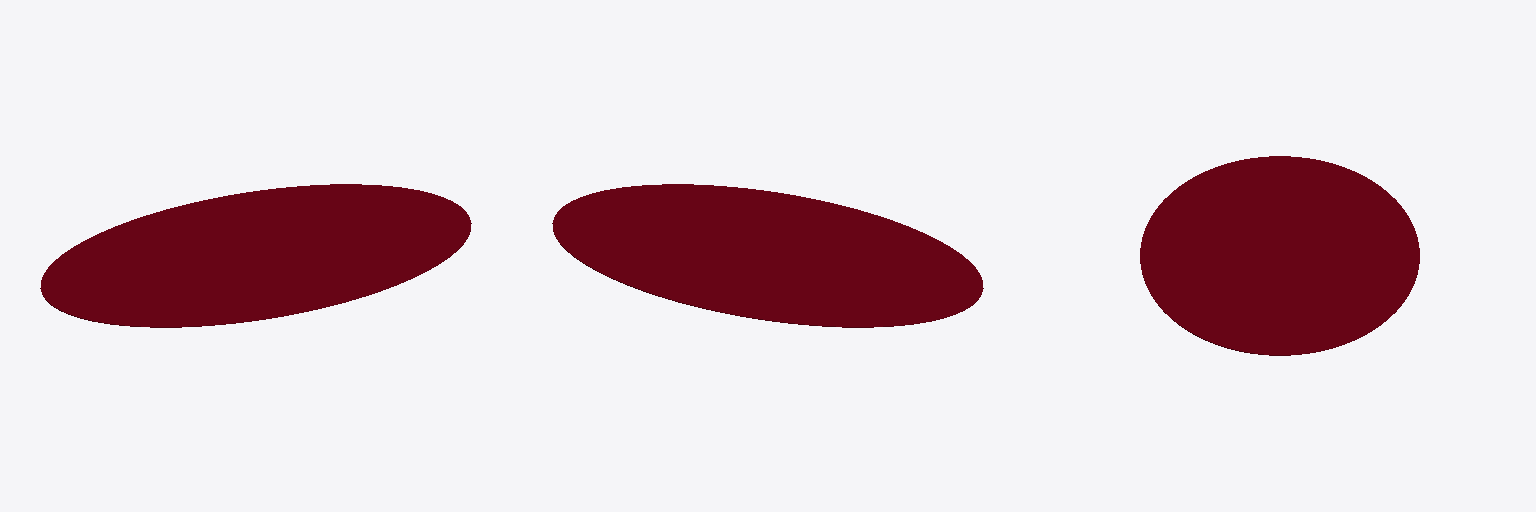
The model's file is GroundComics.obj.
3 views of the same model, side by side, from view 1: azimuth 30°, elevation 25°; view 2: azimuth 150°, elevation 25°; view 3: azimuth 270°, elevation 25° (orthographic).
Visible parts, largest first — view 1: Circle.014_Circle.006; view 2: Circle.014_Circle.006; view 3: Circle.014_Circle.006.
Part boxes in pixels (bbox=[...]): Circle.014_Circle.006: bbox=[40, 184, 471, 327]; Circle.014_Circle.006: bbox=[552, 184, 983, 327]; Circle.014_Circle.006: bbox=[1140, 156, 1419, 355].
Size of the model in its own units: 19.48 by 0.0319 by 11.58.